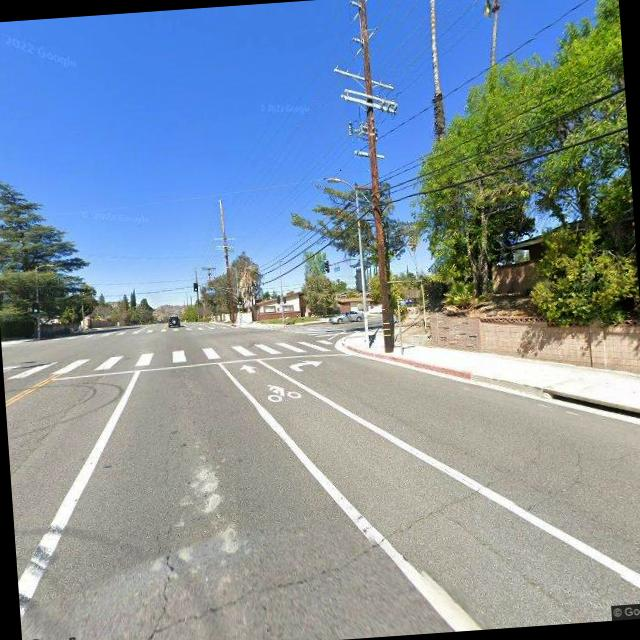crack: (166, 452, 543, 624), (132, 534, 179, 640)
